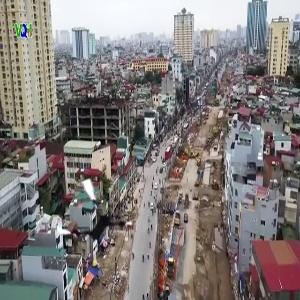drone: (53, 176, 137, 260)
